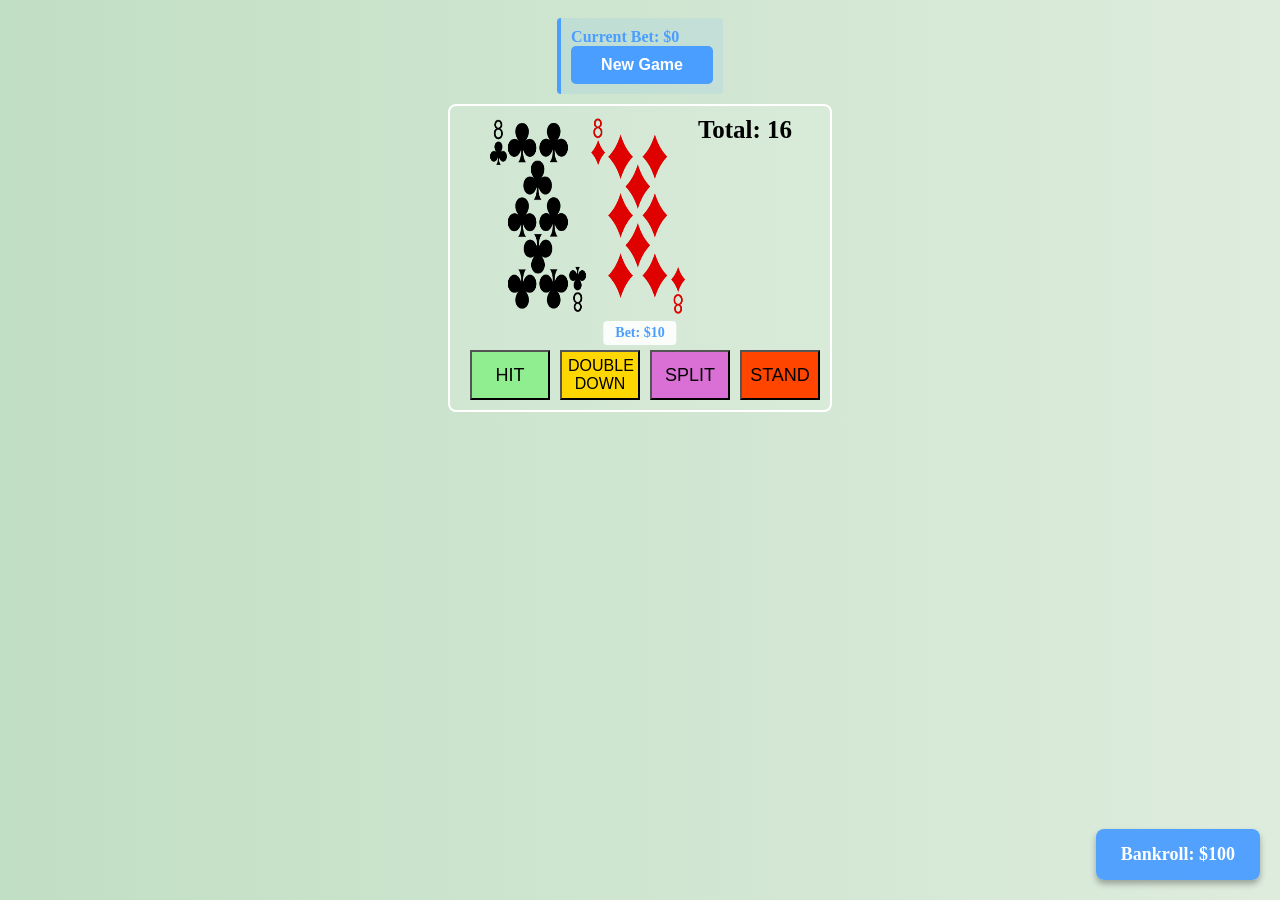
Test: Player Component › splits hand when requested
The image size is (1280, 900).
Click the button "SPLIT" at x=690, y=375, box [650,350,730,400]
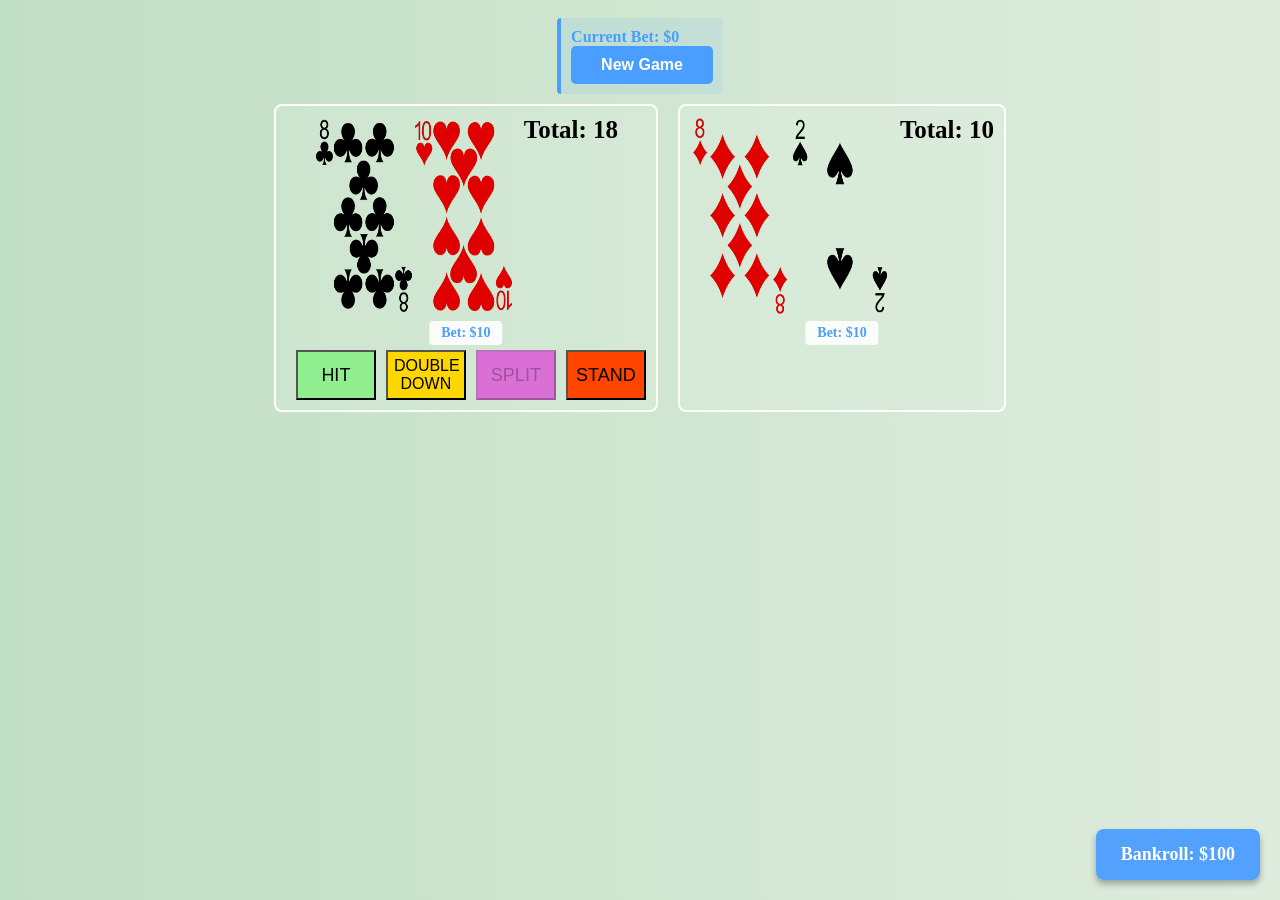
Result: the number of elements with test id "hand-of-cards" is 2 at [314,116,618,320]; [690,116,994,320]
Result: the text "Total: 18" is shown at [524,116,618,143]
Result: the text "Total: 10" is shown at [900,116,994,143]
